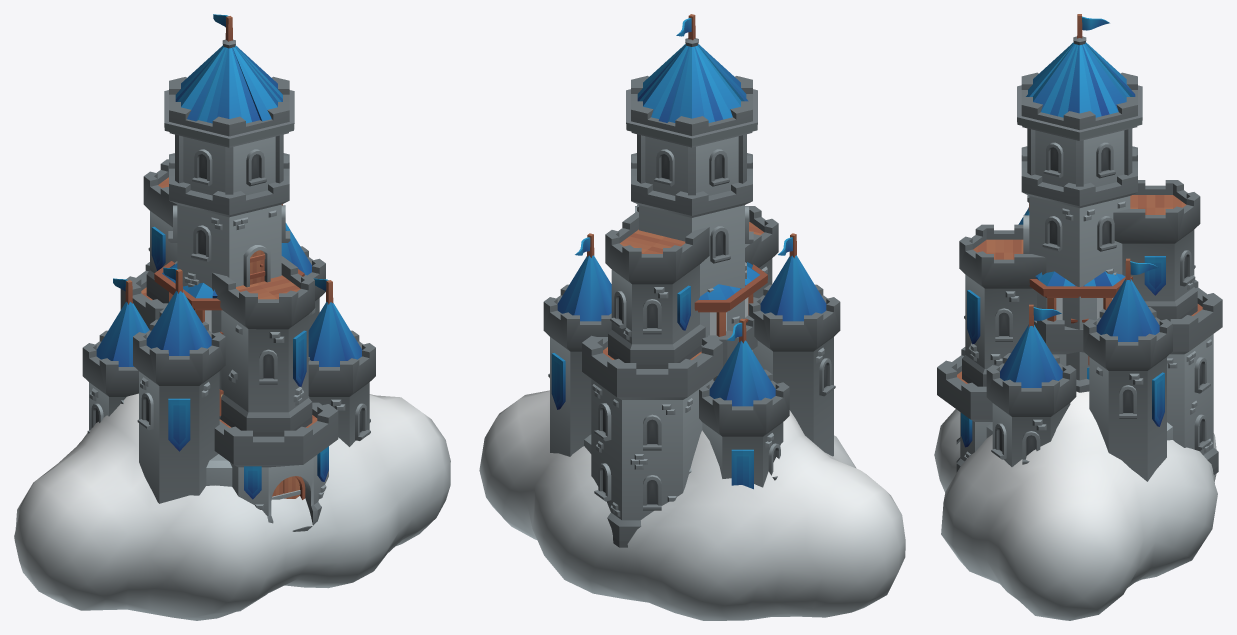
Rendered from world.glb.
The picture shows the model from 3 angles, left to right: view 1: azimuth 30°, elevation 25°; view 2: azimuth 150°, elevation 25°; view 3: azimuth 270°, elevation 25°; orthographic projection. The views are drawn at different scales.
Parts seen in each view (by area): view 1: building_castle_blue, cloud_big, building_tower_A_top_blue; view 2: building_castle_blue, cloud_big, building_tower_A_top_blue, building_tower_A_blue; view 3: building_castle_blue, cloud_big, building_tower_A_top_blue, building_tower_A_blue.
Part boxes in pixels (<box>): building_castle_blue: <box>82,14,375,531</box>; cloud_big: <box>14,393,450,620</box>; building_tower_A_top_blue: <box>154,261,304,334</box>; building_castle_blue: <box>543,14,840,547</box>; cloud_big: <box>479,390,905,620</box>; building_tower_A_top_blue: <box>694,262,767,336</box>; building_tower_A_blue: <box>701,315,757,366</box>; building_castle_blue: <box>937,14,1222,481</box>; cloud_big: <box>934,391,1217,620</box>; building_tower_A_top_blue: <box>1029,271,1132,323</box>; building_tower_A_blue: <box>1034,319,1089,379</box>.
Bounding box in the file's own units: 3.61 × 4.89 × 2.28.
Materials: 1 (1 with a texture image).
